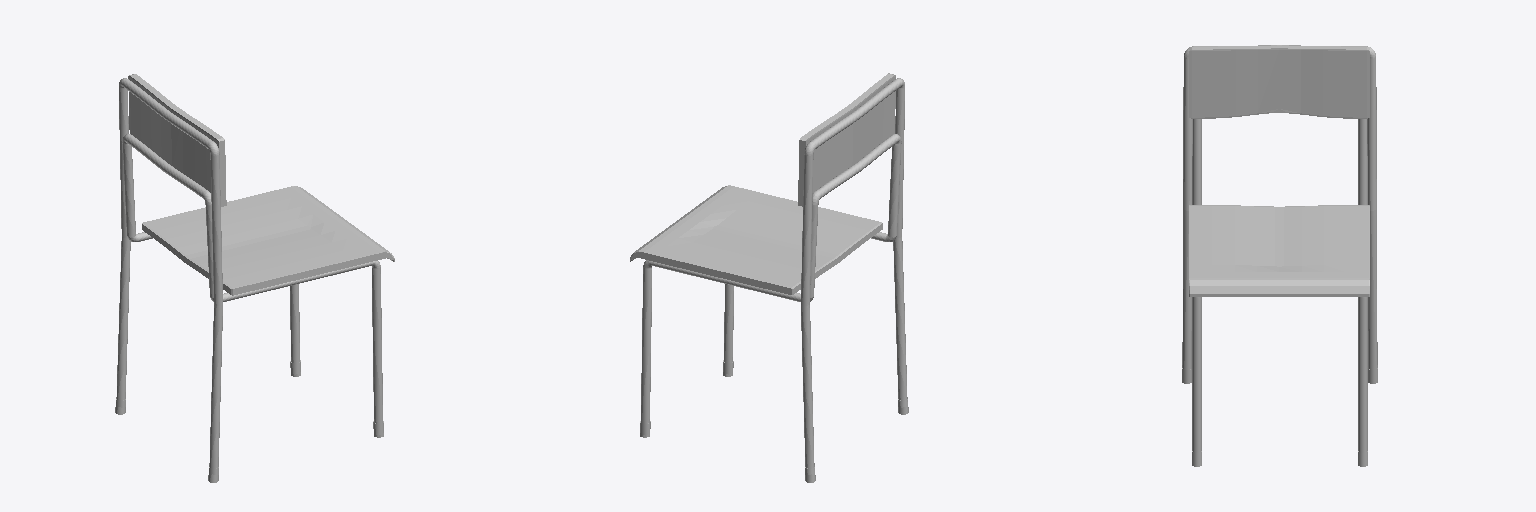
The model's file is school chair.obj.
3 renders of one model, left to right at view 1: azimuth 30°, elevation 25°; view 2: azimuth 150°, elevation 25°; view 3: azimuth 270°, elevation 25°, orthographic.
Visible parts, largest first — view 1: seita_zamen_Cube.005, asi_Cylinder.000, cover_Cylinder.001; view 2: seita_zamen_Cube.005, asi_Cylinder.000, cover_Cylinder.001; view 3: seita_zamen_Cube.005, asi_Cylinder.000, cover_Cylinder.001.
Boxes of the visible parts, <box> form: seita_zamen_Cube.005: <box>128,74,394,295</box>; asi_Cylinder.000: <box>116,78,382,468</box>; cover_Cylinder.001: <box>115,360,383,482</box>; seita_zamen_Cube.005: <box>630,73,895,294</box>; asi_Cylinder.000: <box>641,78,907,468</box>; cover_Cylinder.001: <box>640,360,908,482</box>; seita_zamen_Cube.005: <box>1189,45,1369,296</box>; asi_Cylinder.000: <box>1182,45,1377,452</box>; cover_Cylinder.001: <box>1182,368,1377,466</box>.
Bounding box in the file's own units: 4.31 × 7.41 × 3.91.